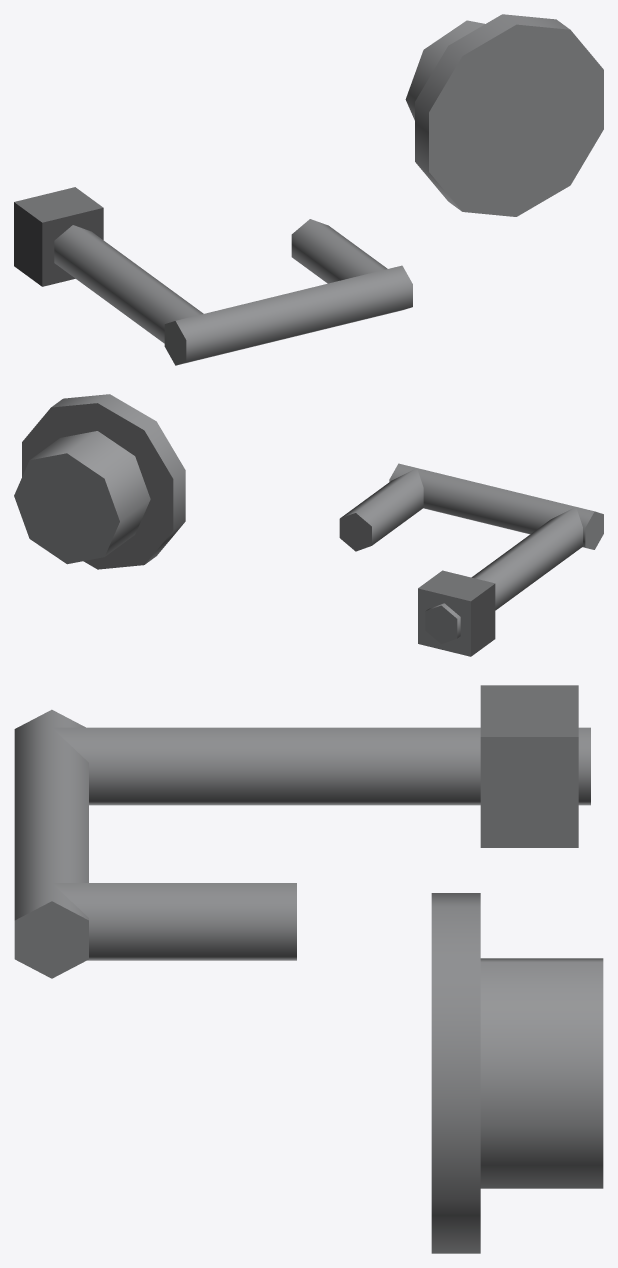
3 renders of one model, top to bottom at view 1: azimuth 30°, elevation 25°; view 2: azimuth 150°, elevation 25°; view 3: azimuth 270°, elevation 25°, orthographic. The views are drawn at different scales.
Size of the model in its own units: 0.8927 by 0.3 by 0.4803.
